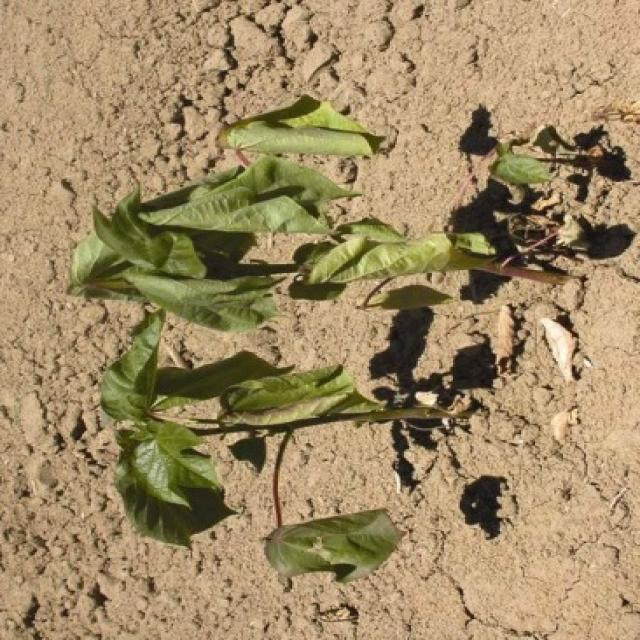Fusarium Wilt: (87, 113, 640, 590)
